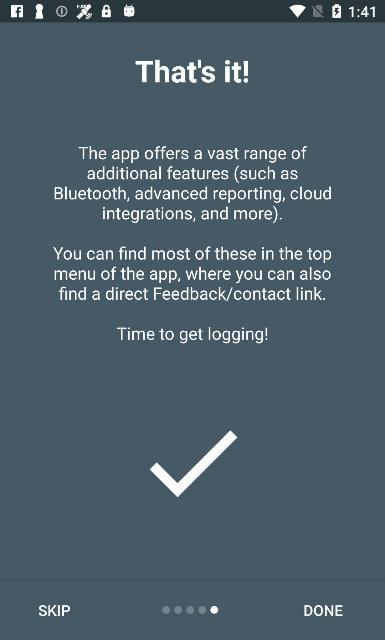Icon: (149, 430, 238, 498)
PageIndicator: (162, 606, 218, 614)
Text: (54, 146, 330, 224), (52, 246, 332, 300), (116, 326, 268, 344), (135, 59, 249, 82), (304, 604, 342, 616), (38, 604, 70, 616)
UpperTaskBar: (0, 0, 384, 22)
